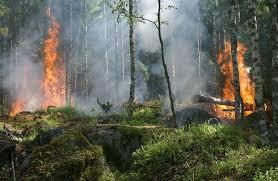fire: (8, 12, 73, 115), (211, 40, 253, 119)
yanwu: (73, 0, 207, 110), (4, 32, 42, 109)
